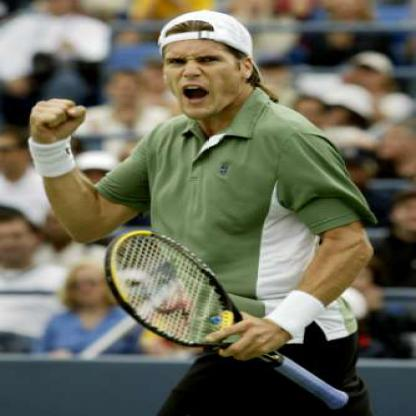face: (159, 15, 246, 122), (1, 217, 35, 265), (70, 266, 110, 306), (111, 73, 145, 107)
